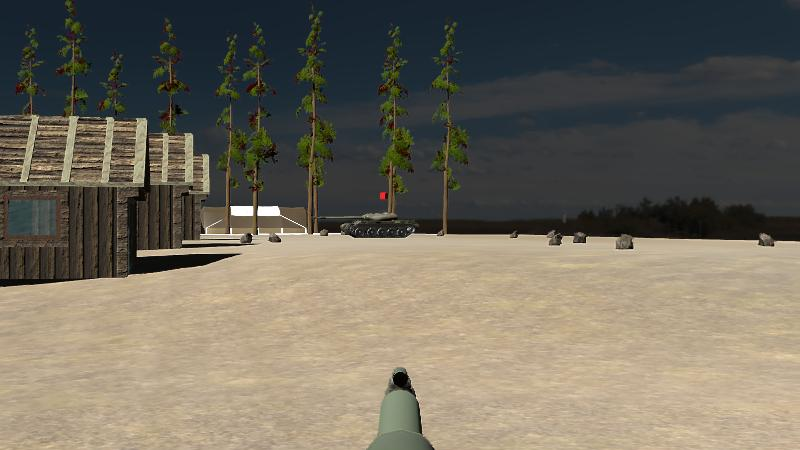House: (0, 112, 150, 286), (140, 137, 201, 250)
Tank: (317, 211, 421, 240)
